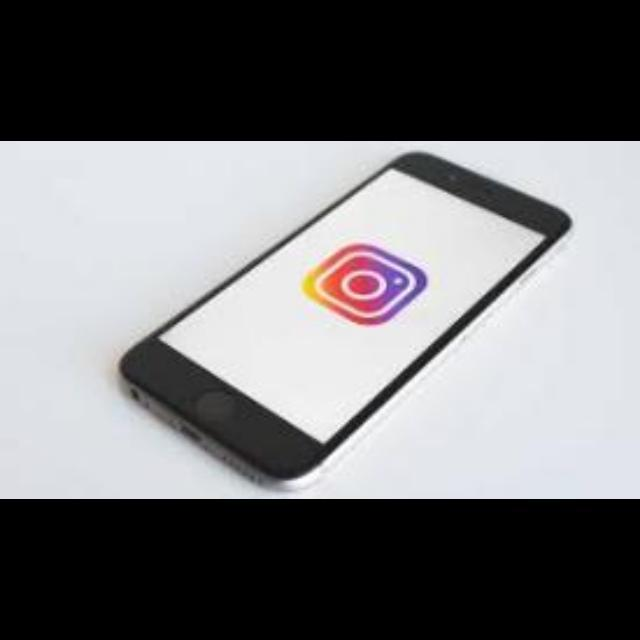PhoneUse: (116, 150, 572, 490)
